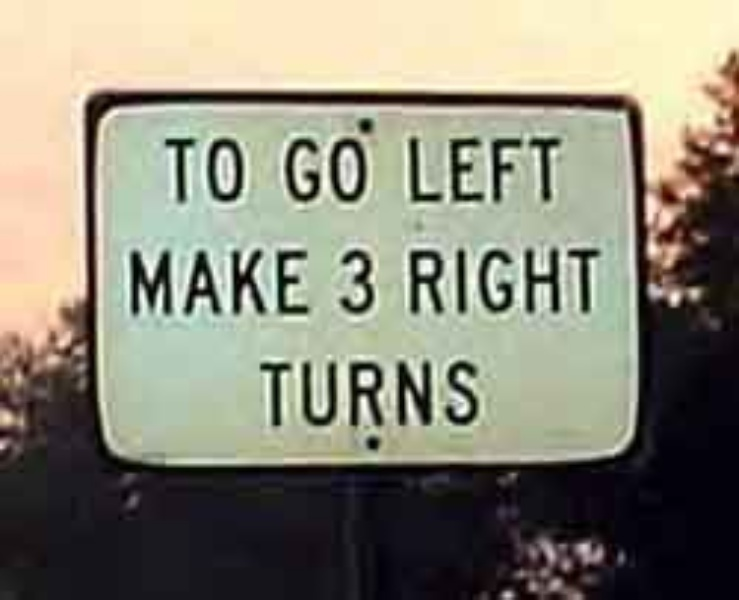text: (337, 243, 352, 320), (353, 243, 368, 320), (129, 246, 144, 320), (145, 246, 160, 320), (161, 246, 176, 320), (177, 246, 192, 320), (193, 246, 208, 320), (209, 246, 224, 320), (225, 246, 240, 320), (241, 246, 256, 320), (257, 246, 272, 320), (273, 246, 288, 320), (289, 246, 304, 320), (273, 355, 288, 429), (289, 355, 304, 429), (305, 355, 320, 429), (321, 355, 336, 429), (337, 355, 352, 429), (353, 355, 368, 429), (369, 355, 384, 429), (385, 355, 400, 429), (401, 355, 416, 429), (417, 355, 432, 429), (433, 355, 448, 429), (449, 355, 464, 429), (177, 131, 192, 204), (193, 131, 208, 204), (209, 131, 224, 204), (225, 131, 240, 204), (417, 246, 432, 317), (433, 246, 448, 317), (449, 246, 464, 317), (465, 246, 480, 317), (481, 246, 496, 317), (497, 246, 512, 317), (513, 246, 528, 317), (529, 246, 544, 317), (545, 246, 560, 317), (561, 246, 576, 317), (577, 246, 592, 317), (289, 134, 304, 204), (305, 134, 320, 204), (321, 134, 336, 204), (337, 134, 352, 204), (417, 134, 432, 204), (433, 134, 448, 204), (449, 134, 464, 204), (465, 134, 480, 204), (481, 134, 496, 204), (497, 134, 512, 204), (513, 134, 528, 204), (529, 134, 544, 204), (545, 134, 560, 204), (258, 355, 272, 429), (465, 355, 479, 429), (369, 243, 382, 320), (353, 134, 367, 204), (163, 131, 176, 204), (408, 246, 416, 317), (593, 246, 601, 317), (408, 134, 416, 204), (281, 134, 288, 204), (305, 246, 311, 320), (241, 131, 246, 204), (561, 134, 565, 204), (335, 243, 336, 320)
